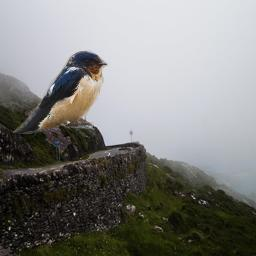Swallow: (13, 50, 109, 134)
